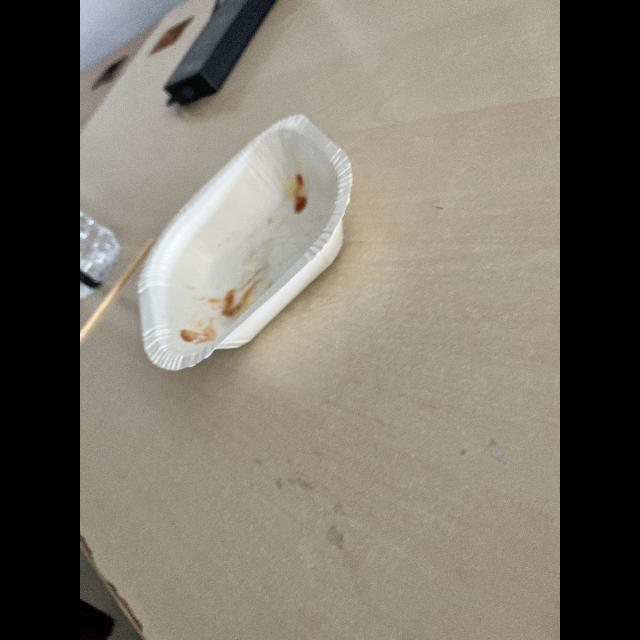cardboard_bowl: (126, 95, 378, 393)
